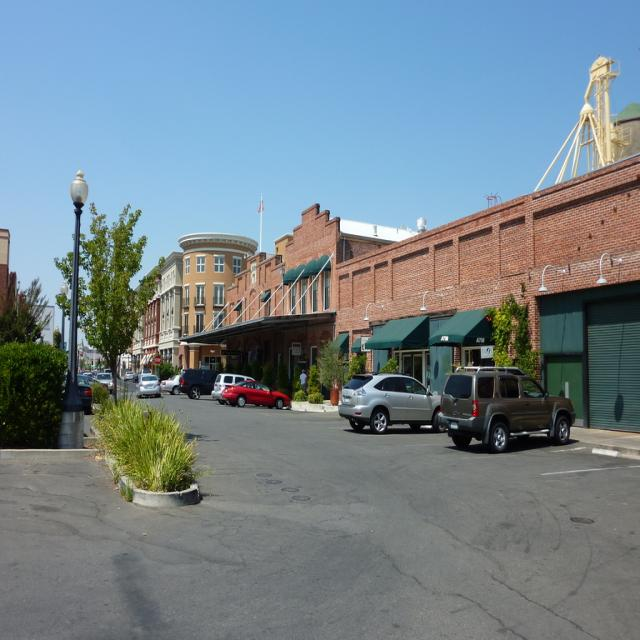car: (433, 363, 579, 457), (220, 378, 290, 409), (134, 373, 160, 396)
